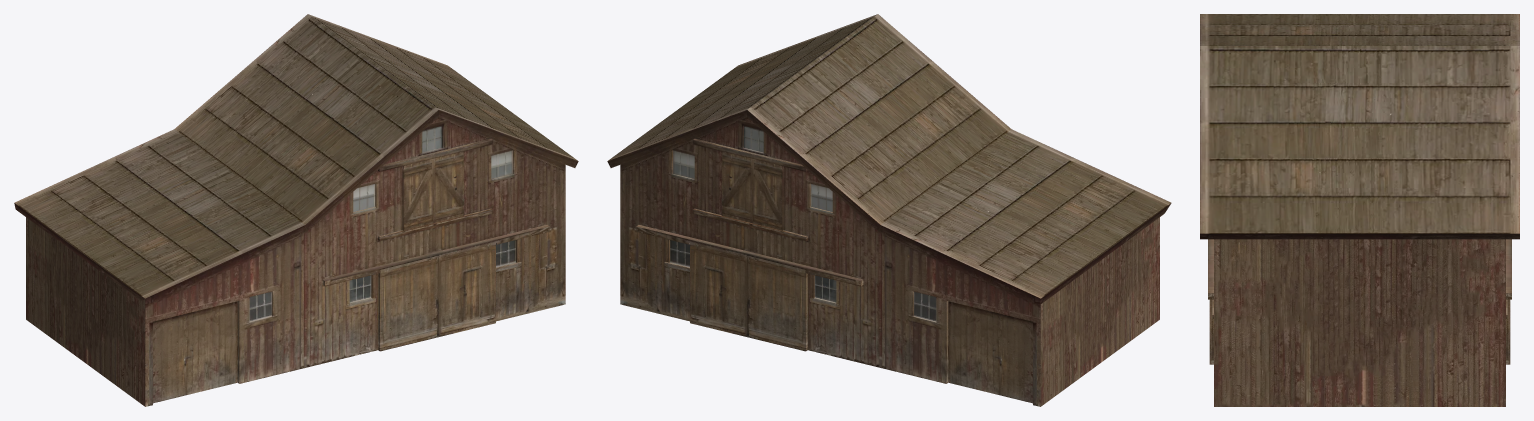
Rendered from realbarn.glb.
The picture shows the model from 3 angles, left to right: view 1: azimuth 30°, elevation 25°; view 2: azimuth 150°, elevation 25°; view 3: azimuth 270°, elevation 25°; orthographic projection. The views are drawn at different scales.
Parts seen in each view (by area): view 1: barn; view 2: barn; view 3: barn.
Boxes of the visible parts, box(x1,y1,x2,y2) form: barn: box(14, 14, 578, 406); barn: box(607, 14, 1171, 406); barn: box(1200, 14, 1519, 406).
Bounding box in the file's own units: 6.28 × 3.2 × 3.29.
1 material, 1 textured.
